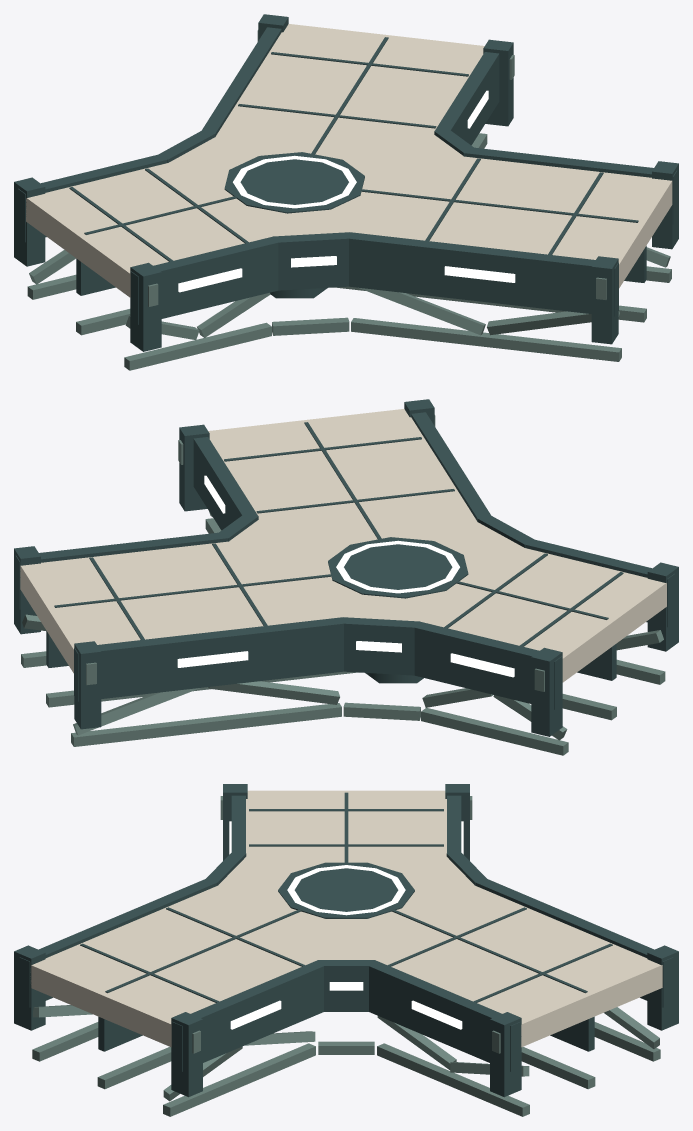
Rendered from Junction_WideFork_lab.glb.
3 renders of one model, top to bottom at view 1: azimuth 30°, elevation 25°; view 2: azimuth 150°, elevation 25°; view 3: azimuth 270°, elevation 25°, orthographic. The views are drawn at different scales.
Visible parts, largest first — view 1: Junction_WideFork; view 2: Junction_WideFork; view 3: Junction_WideFork.
Part boxes in pixels (x1,y1,x2,y2): Junction_WideFork: (14, 14, 678, 370); Junction_WideFork: (14, 399, 678, 755); Junction_WideFork: (14, 784, 678, 1116).
Bounding box in the file's own units: 7.91 × 1.58 × 9.21.
